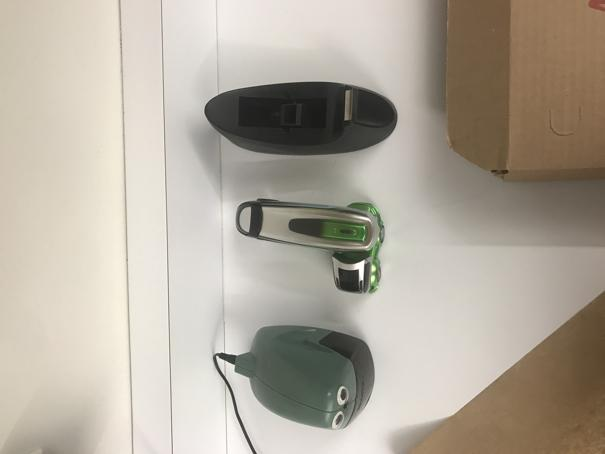Freewheel: (236, 198, 385, 295)
